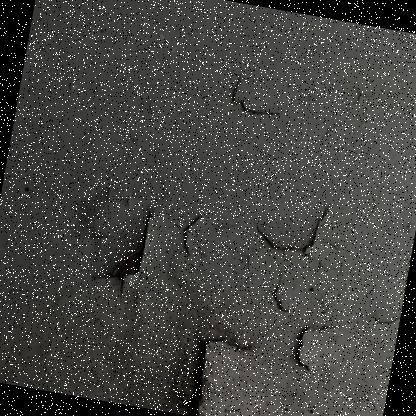Crack: (215, 176, 415, 413), (55, 172, 172, 326), (145, 311, 269, 415), (202, 26, 310, 144), (313, 63, 382, 159), (164, 194, 240, 280), (0, 304, 7, 349)
